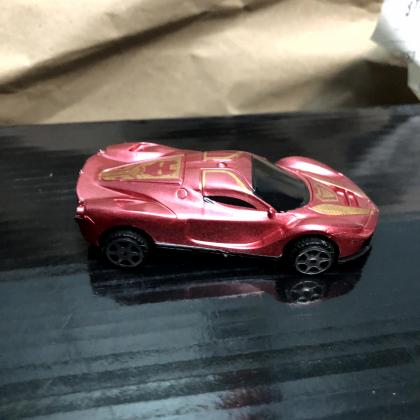Car: (75, 142, 379, 278)
